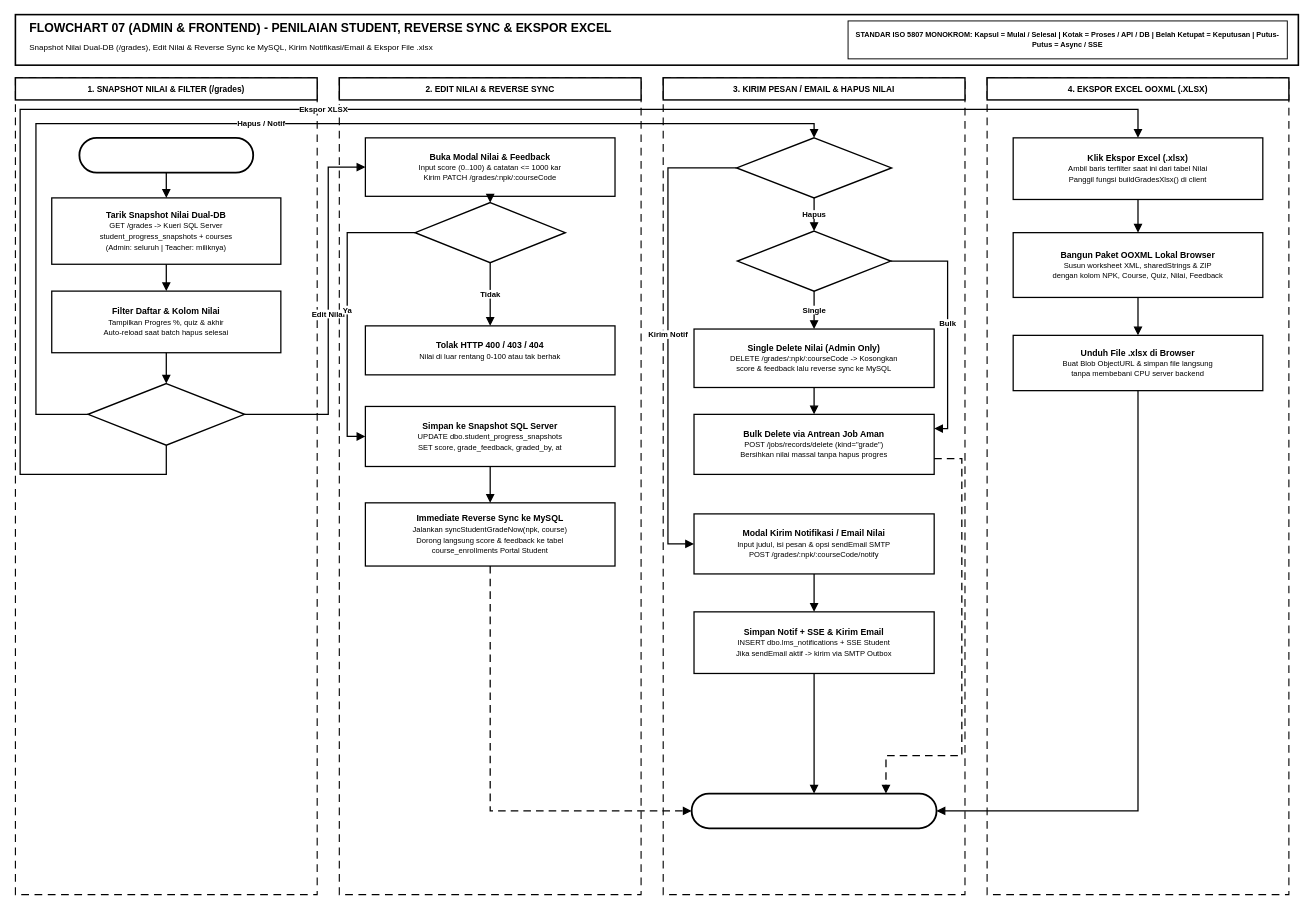
This 1313x909 diagram has some shape labels left out. The shapes that lost their labels are listed below. From the top down, each one's centre as x and y in pixels, then its label:
At pixel 166 155: "BUKA HALAMAN NILAI".
At pixel 814 167: "Aksi: Hapus Nilai vs Kirim Notif?".
At pixel 490 232: "Origin & Skor 0..100 Valid?".
At pixel 813 260: "Admin Hapus Nilai Single vs Bulk?".
At pixel 166 413: "Pilih Aksi di Halaman Nilai?".
At pixel 813 810: "DATA NILAI & LAPORAN SELESAI".
